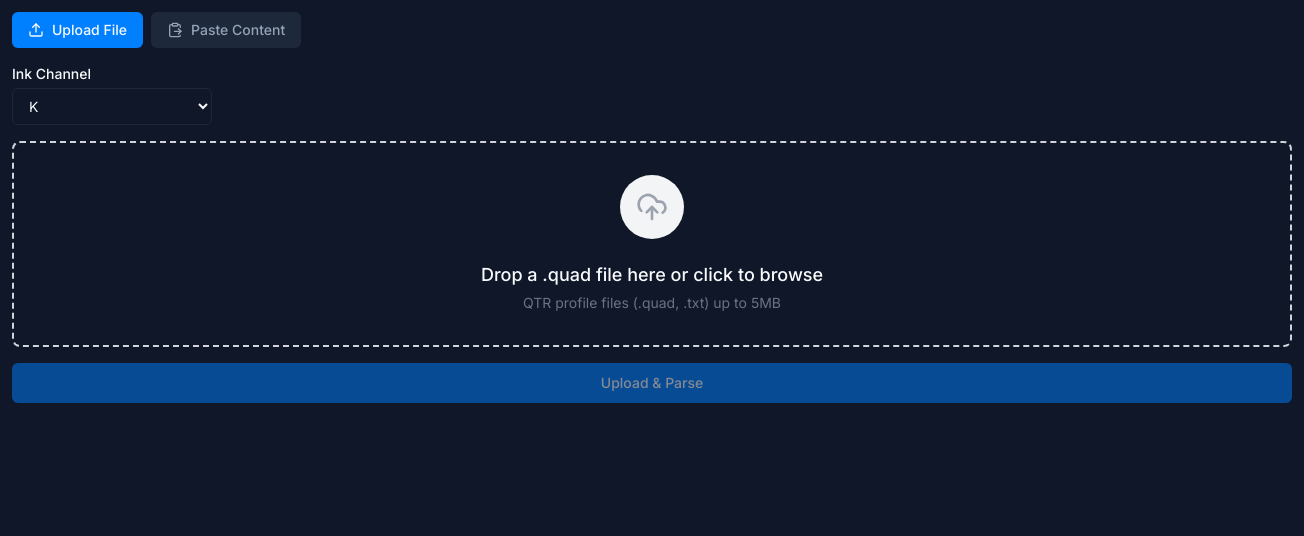
Test: CurveUpload › Rendering › switches to paste mode when tab is clicked
Click the tab "Paste Content". click: (226,30)
box: [151,12,301,48]
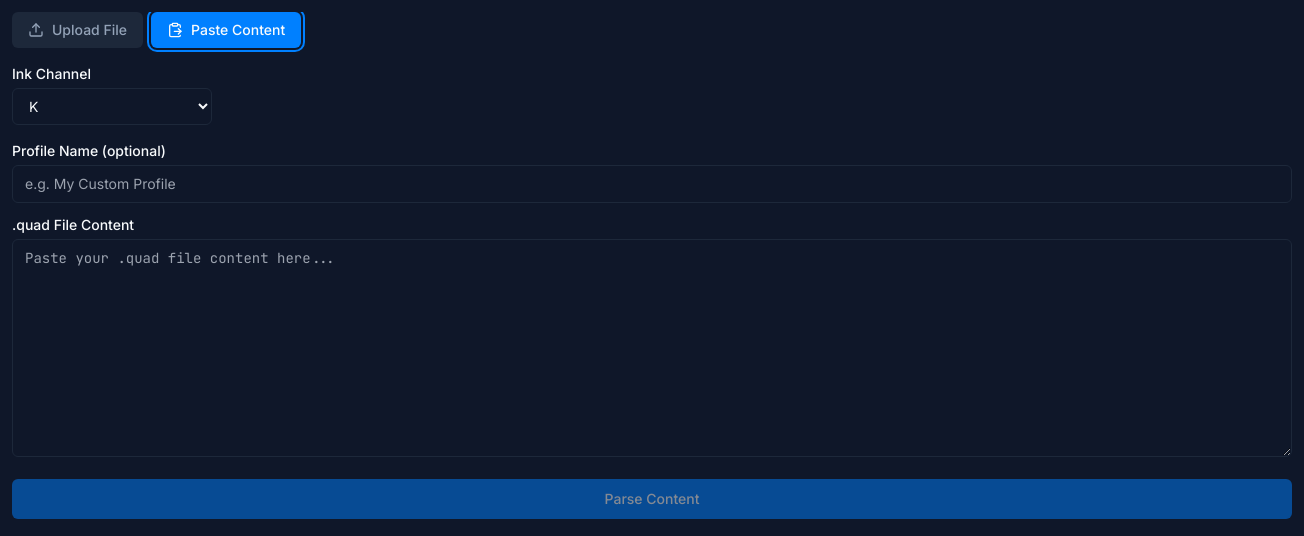
Expected: the text box labelled ".quad File Content" is shown, [12,239,1292,457]
Expected: the button "Parse Content" is shown, [12,479,1292,519]
